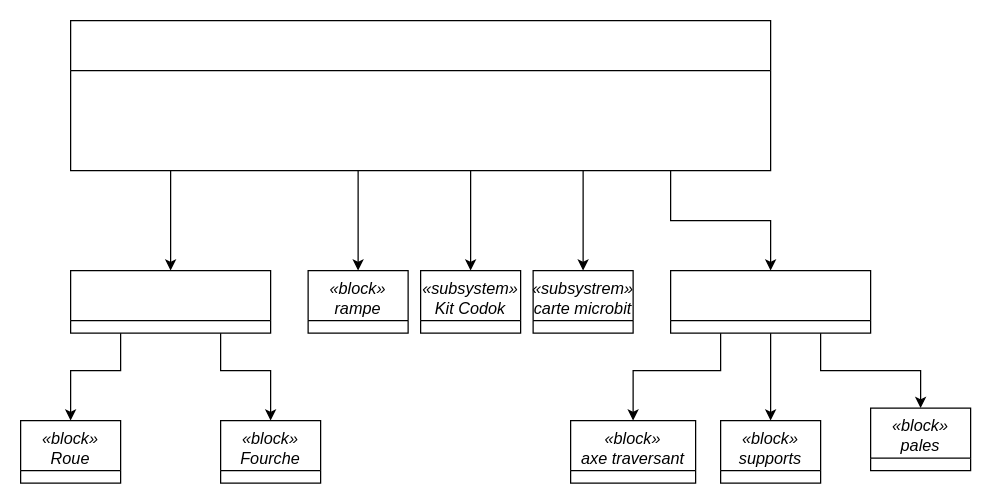
This 991x504 diagram has some shape labels left out. The shapes that lost their labels are listed below. From the top down, each one's box as (x1, y1, x2, y2) in pixels, then its label:
(69, 19, 771, 171): «système» Robot Sumo
(69, 269, 271, 333): «block» Roue folle
(669, 269, 871, 333): «block» hélice
